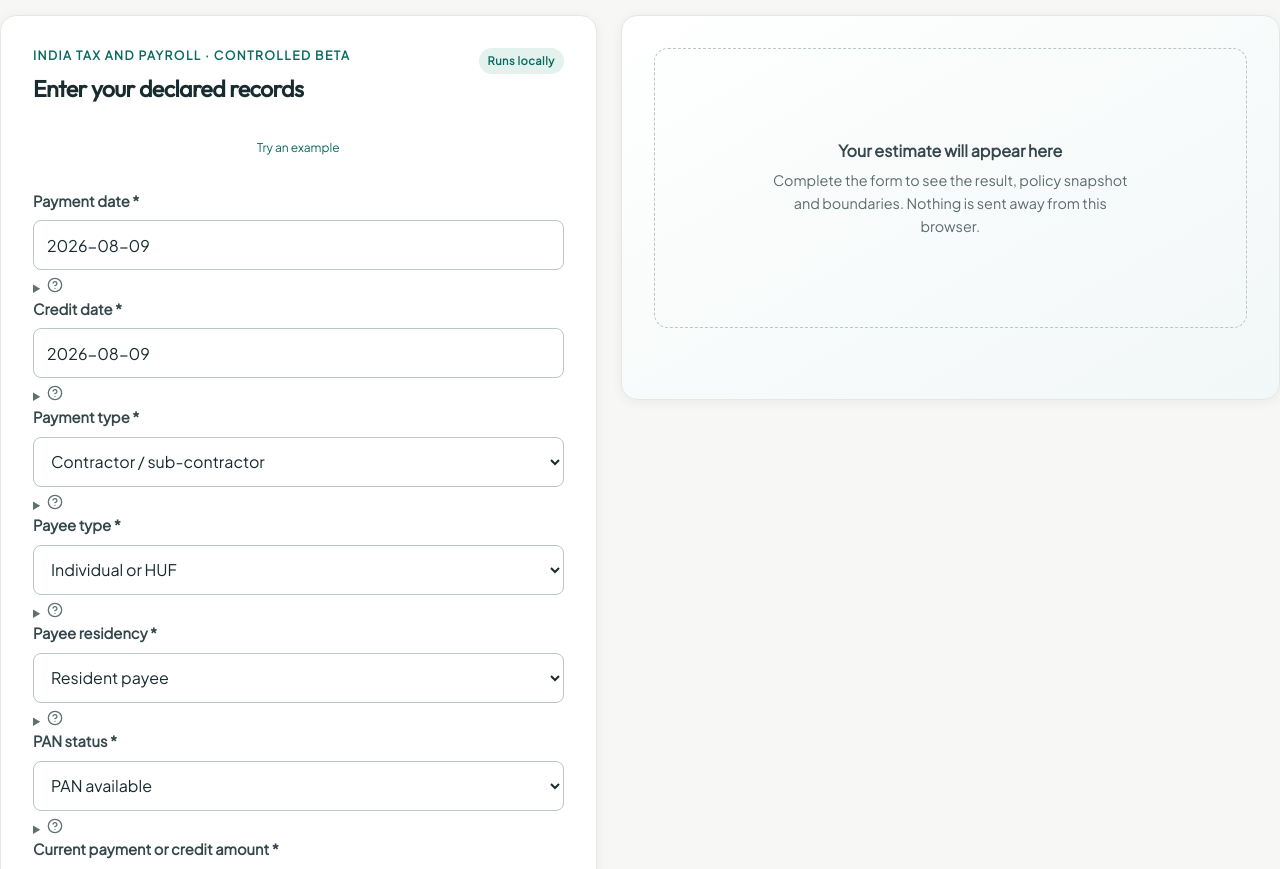
Test: tax calculator form integration › calculates with an overdue TDS review and still validates residency
Click the button "Try an example" at (298, 148), box [33,126,564,170]
(page scrolled)
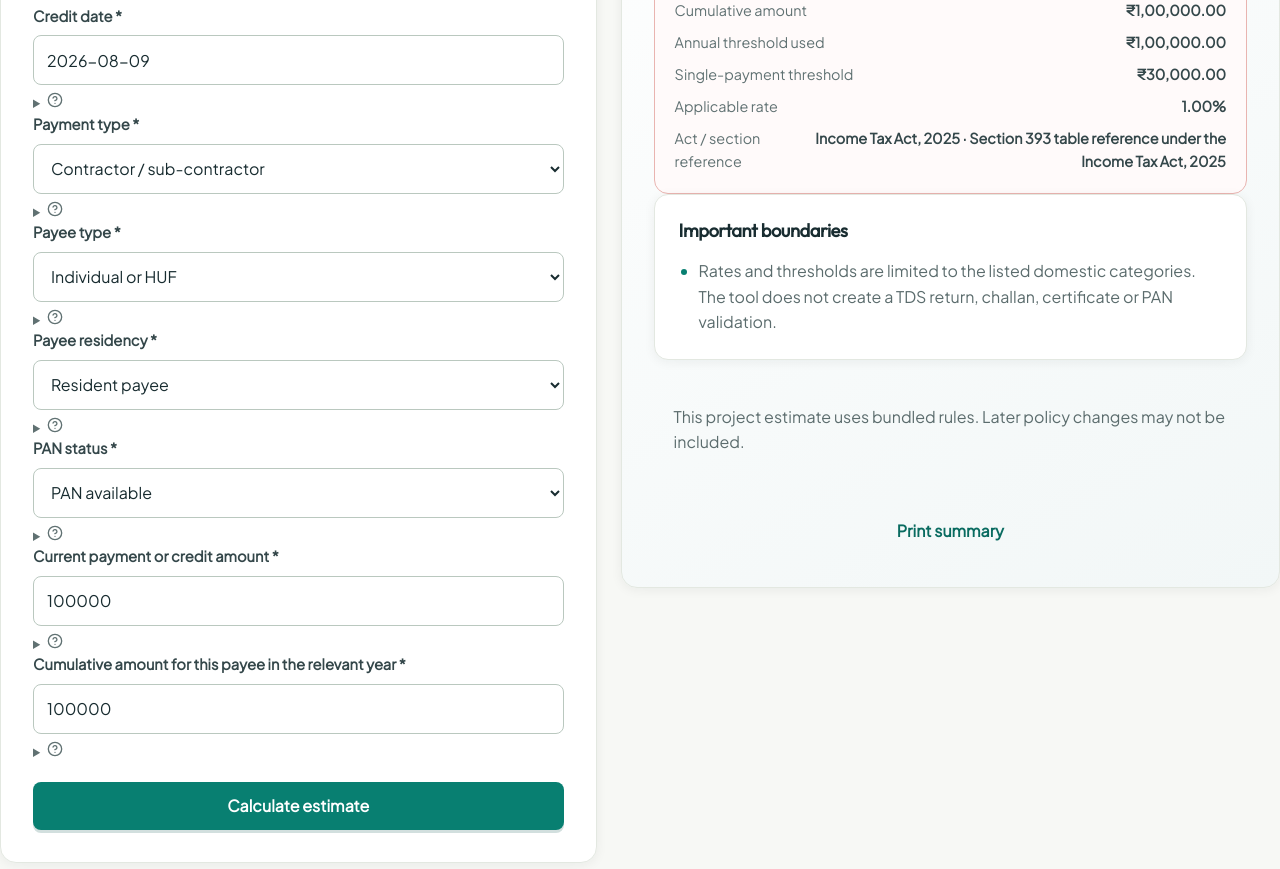
Click the button "Calculate estimate" at (298, 806), box [33,782,564,830]
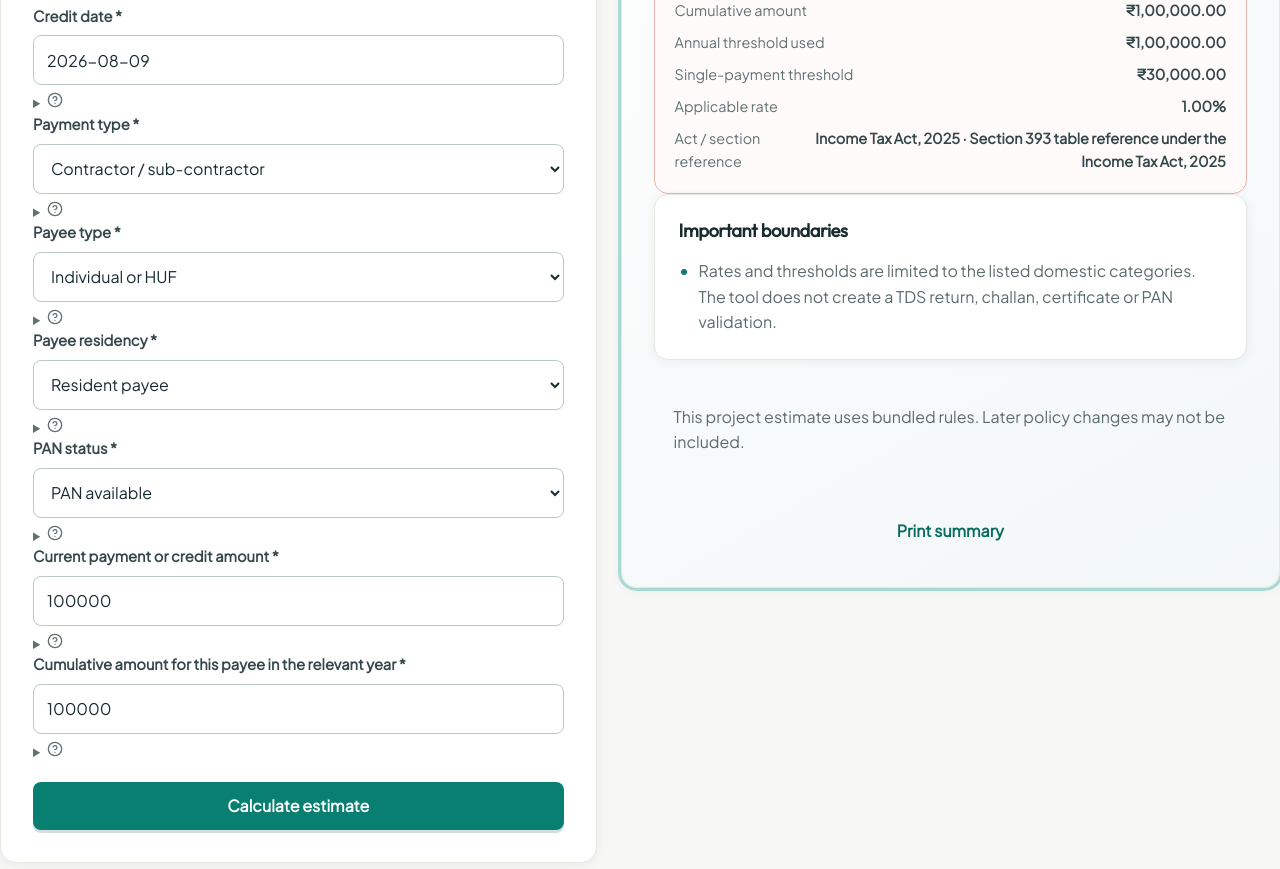
Expected: the text "This project estimate uses bundled rules" is shown, [674,406,1225,452]
Select "Non-resident payee" in the dropdown labelled "Payee residency *" at (298, 385), box [33,360,564,410]
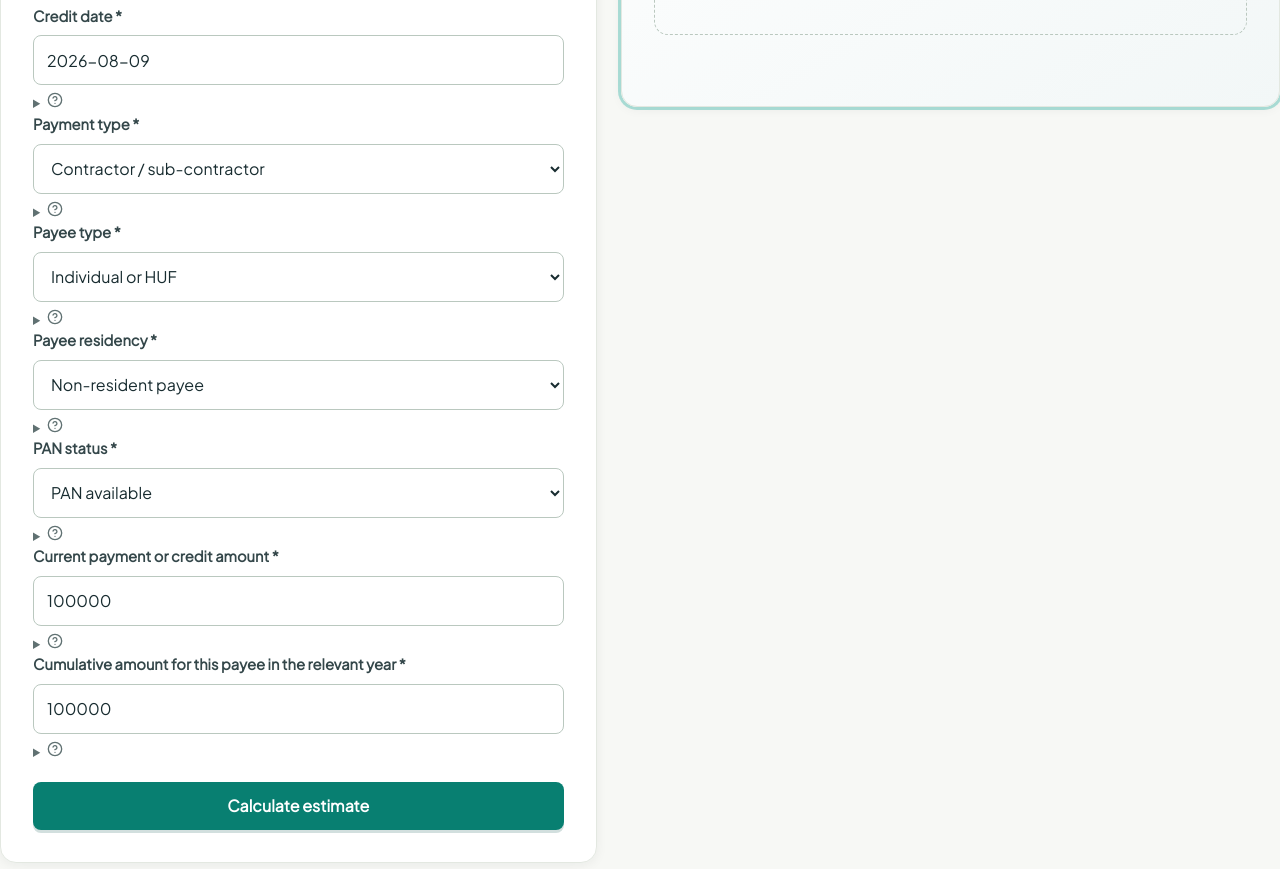
Click the button "Calculate estimate" at (298, 806), box [33,782,564,830]
(page scrolled)
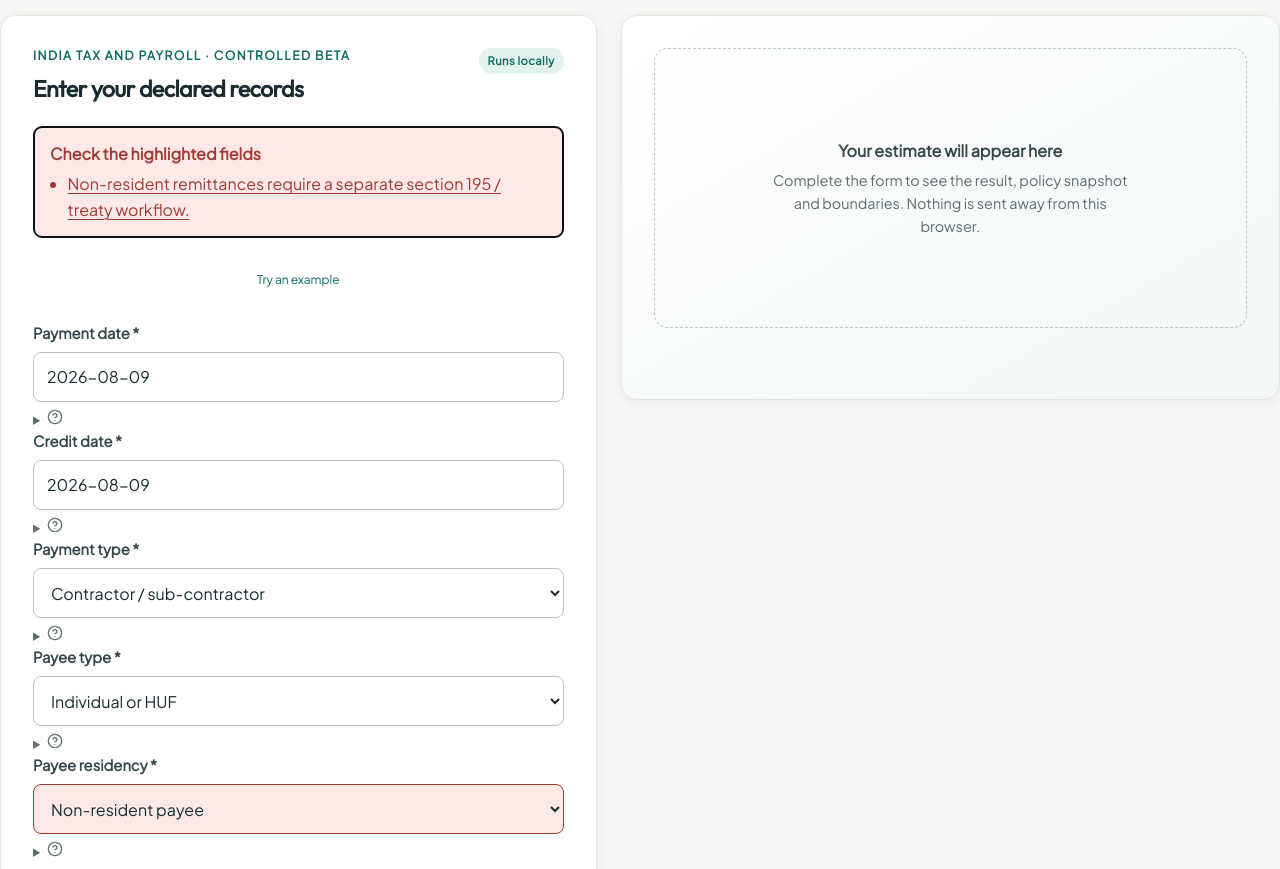
Expected: the link "Non-resident remittances" is shown, [68,173,501,220]
